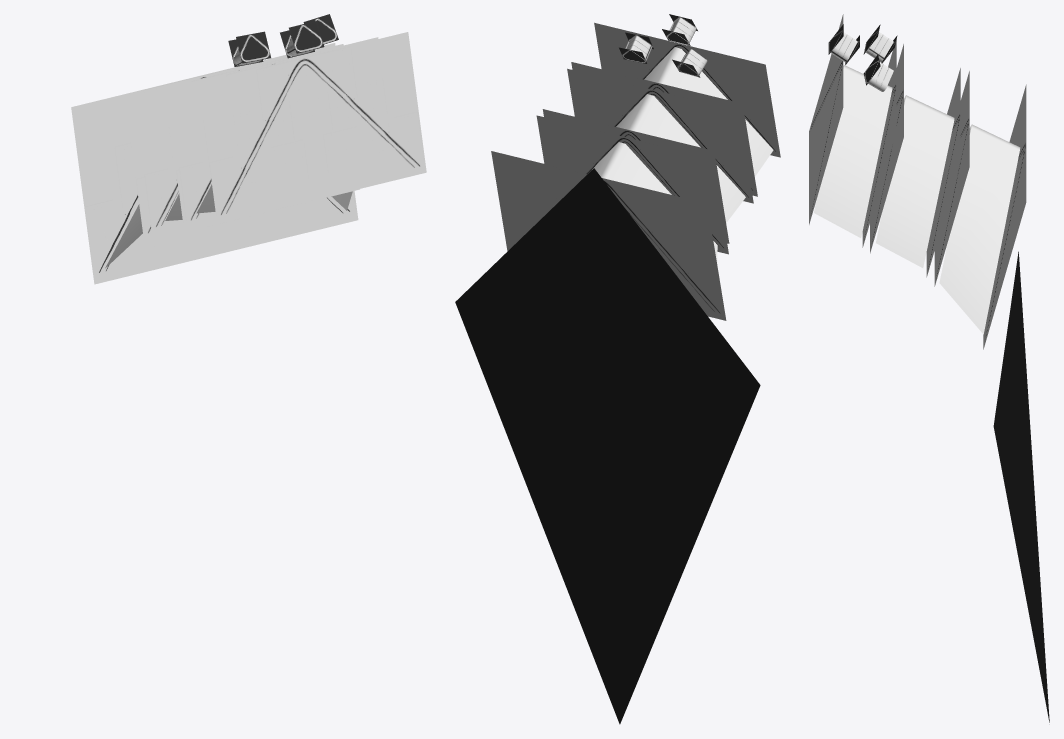
The model's file is rdc_5.dae.
The picture shows the model from 3 angles, left to right: view 1: azimuth 30°, elevation 25°; view 2: azimuth 150°, elevation 25°; view 3: azimuth 270°, elevation 25°; orthographic projection. The views are drawn at different scales.
Visible parts, largest first — view 1: topgrande (×5), megapattern_top (×2), banchi; view 2: nero, topgrande (×6), banchi (×3); view 3: banchi (×3), topgrande (×6), nero.
Boxes of the visible parts, x1,y1,x2,y2 form: topgrande (×5): (71,32,426,284); megapattern_top (×2): (236,21,324,63); banchi: (105,191,352,268); nero: (455,168,760,724); topgrande (×6): (491,22,780,320); banchi (×3): (588,47,773,263); banchi (×3): (814,65,1020,334); topgrande (×6): (809,14,1026,349); nero: (993,251,1049,722).
Size of the model in its own units: 525 by 1003 by 307.
6 materials, 4 textured.
